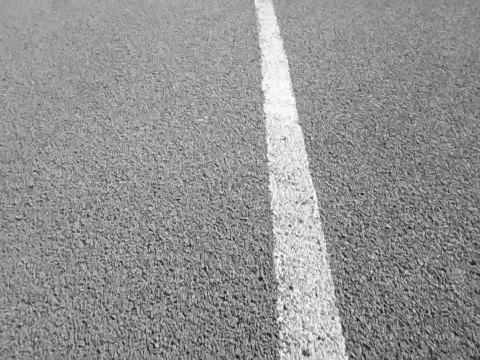Lines: (253, 0, 349, 360)
